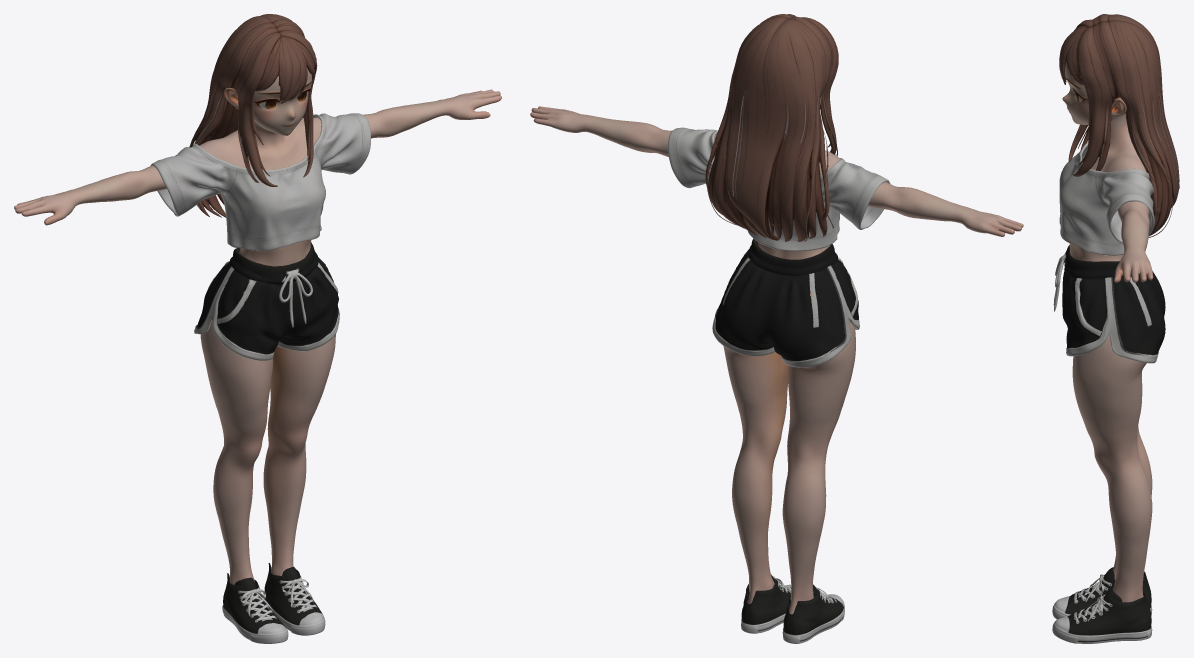
File: one_one.glb
3 views of the same model, side by side, from view 1: azimuth 30°, elevation 25°; view 2: azimuth 150°, elevation 25°; view 3: azimuth 270°, elevation 25° (orthographic).
Visible parts, largest first — view 1: body, shirt, shorts, hair, sneakers; view 2: body, hair, shorts, shirt, sneakers; view 3: body, hair, shorts, shirt, sneakers.
Part boxes in pixels (x1,y1,x2,y2): body: (14,68,501,584); shirt: (150,113,370,251); shorts: (194,242,339,360); hair: (189,14,317,217); sneakers: (222,563,325,643); body: (530,96,1023,614); hair: (705,14,838,242); shorts: (712,238,859,367); shirt: (668,127,890,251); sneakers: (741,574,844,643); body: (1062,62,1153,602); hair: (1059,14,1179,237); shorts: (1053,245,1165,363); shirt: (1059,142,1154,255); sneakers: (1052,567,1152,643).
Bounding box in the file's own units: 1.47 × 1.74 × 0.33.
Materials: 6 (6 with a texture image).
